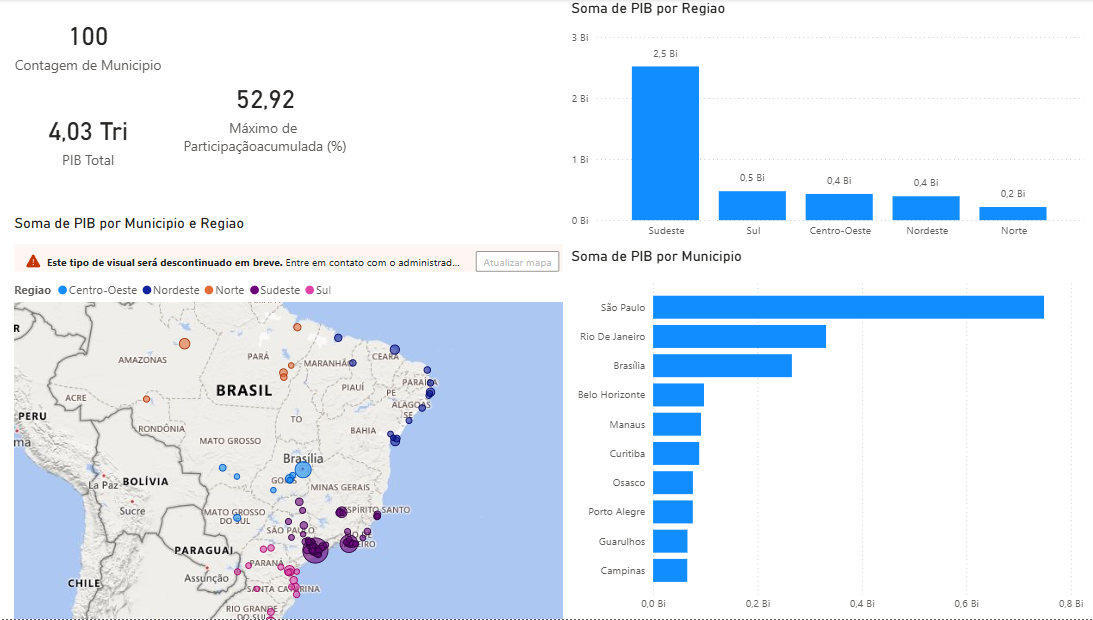

The dashboard page shown, as its layout file describes it:
{"tool":"powerbi","page":{"name":"PIB dos 100 Maiores Municípios do Brasil (2020)","canvas":[1280,720],"ordinal":0},"visuals":[{"type":"card","fields":{"Values":["Max(PIB dos Municípios Brasileiros - 2020 IBGE.Participaçãoacumulada (%))"]},"box":[212.6,0,209.1,249.7],"z":1},{"type":"card","fields":{"Values":["CountNonNull(PIB dos Municípios Brasileiros - 2020 IBGE.Municipio)"]},"box":[10.5,0,202.1,104.5],"z":2},{"type":"lineClusteredColumnComboChart","fields":{"Category":["PIB dos Municípios Brasileiros - 2020 IBGE.Regiao"],"Y":["Sum(PIB dos Municípios Brasileiros - 2020 IBGE.PIB)"]},"box":[667.9,0,605.2,286.9],"z":3},{"type":"map","fields":{"Category":["PIB dos Municípios Brasileiros - 2020 IBGE.Municipio"],"Series":["PIB dos Municípios Brasileiros - 2020 IBGE.Regiao"],"Size":["Sum(PIB dos Municípios Brasileiros - 2020 IBGE.PIB)"]},"box":[20.9,249.7,647,470.4],"z":4},{"type":"clusteredBarChart","fields":{"Category":["PIB dos Municípios Brasileiros - 2020 IBGE.Municipio"],"Y":["Sum(PIB dos Municípios Brasileiros - 2020 IBGE.PIB)"]},"box":[667.9,288.1,605.2,432.1],"z":5},{"type":"card","fields":{"Values":["PIB dos Municípios Brasileiros - 2020 IBGE.PIB Total"]},"box":[10.5,91.8,202.1,141.7],"z":6}]}

Visuals, with their boxes in screenshot pixels (x1, y1, x2, y2), scaled from the page's 1280x720 canvas onto the 1093x620 screenshot:
card - Max(PIB dos Municípios Brasileiros - 2020 IBGE.Participaçãoacumulada (%)): locate(182, 0, 360, 215)
card - CountNonNull(PIB dos Municípios Brasileiros - 2020 IBGE.Municipio): locate(9, 0, 182, 90)
lineClusteredColumnComboChart - PIB dos Municípios Brasileiros - 2020 IBGE.Regiao x Sum(PIB dos Municípios Brasileiros - 2020 IBGE.PIB): locate(570, 0, 1087, 247)
map - PIB dos Municípios Brasileiros - 2020 IBGE.Municipio x PIB dos Municípios Brasileiros - 2020 IBGE.Regiao: locate(18, 215, 570, 619)
clusteredBarChart - PIB dos Municípios Brasileiros - 2020 IBGE.Municipio x Sum(PIB dos Municípios Brasileiros - 2020 IBGE.PIB): locate(570, 248, 1087, 619)
card - PIB dos Municípios Brasileiros - 2020 IBGE.PIB Total: locate(9, 79, 182, 201)
